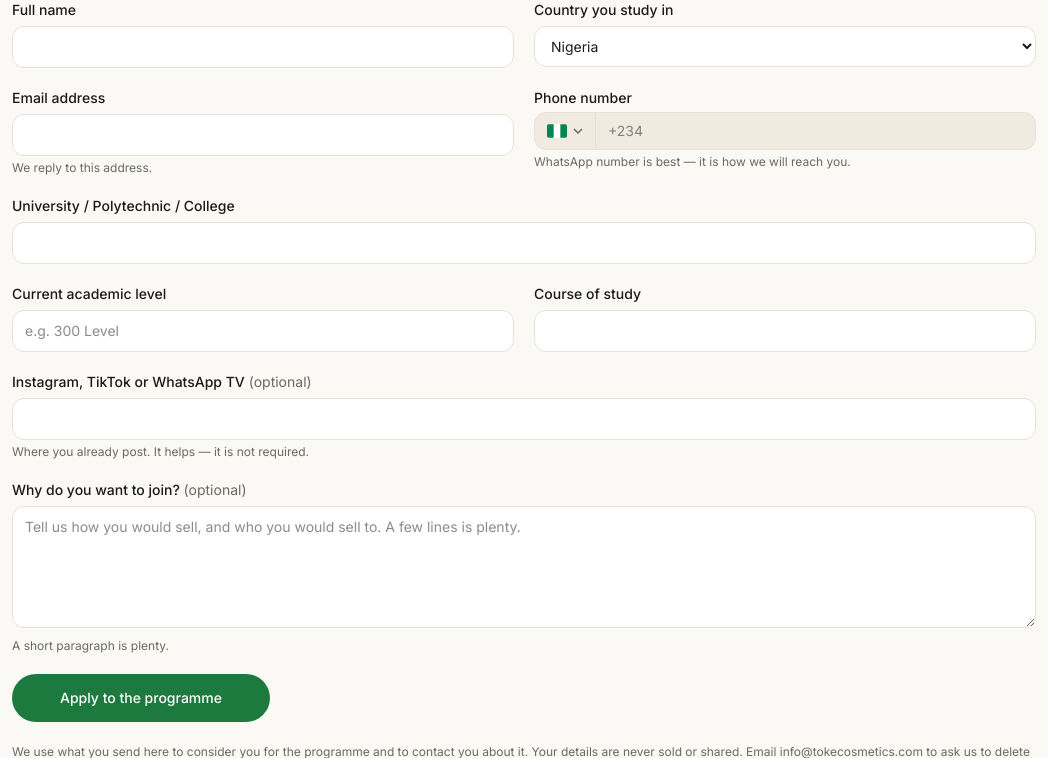
Test case: the application form › renders a 409 as the intake closing, not as a field error
Type "Chidinma Eze" into the field labelled "Full name" at (263, 47), box left=12, top=26, right=514, bottom=68
Type "chidinma@example.com" into the field labelled "Email address" at (263, 135), box left=12, top=114, right=514, bottom=156
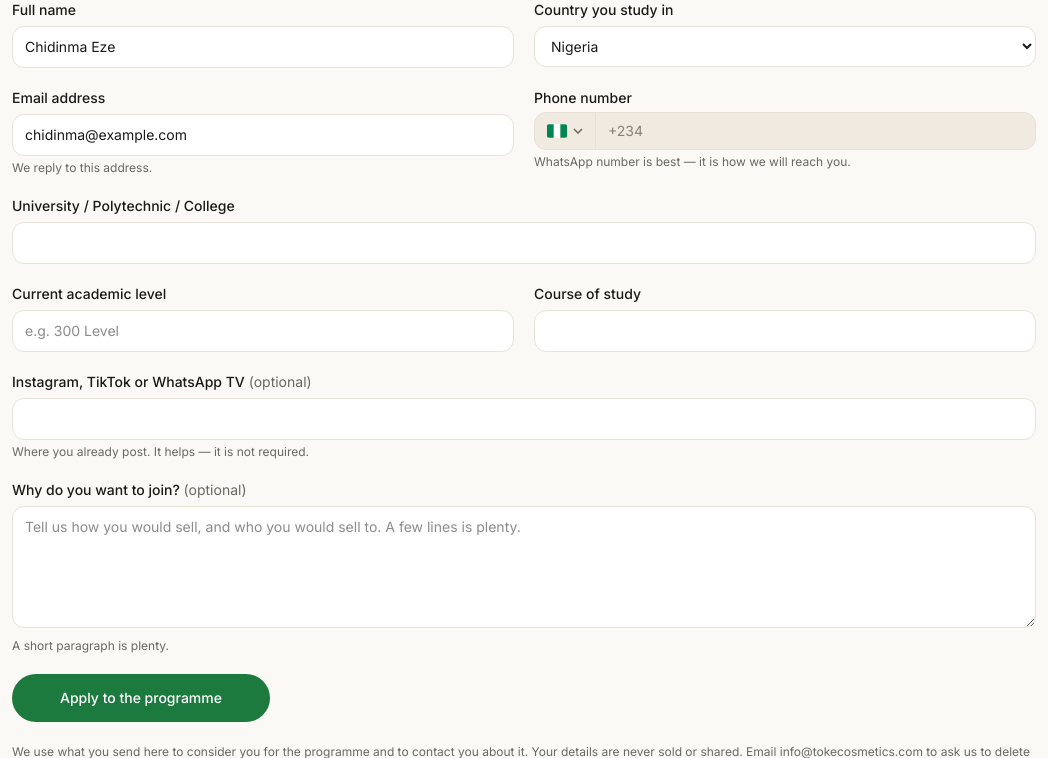
Type "University of Lagos" into the field labelled "University / Polytechnic / College" at (524, 243), box left=12, top=222, right=1036, bottom=264
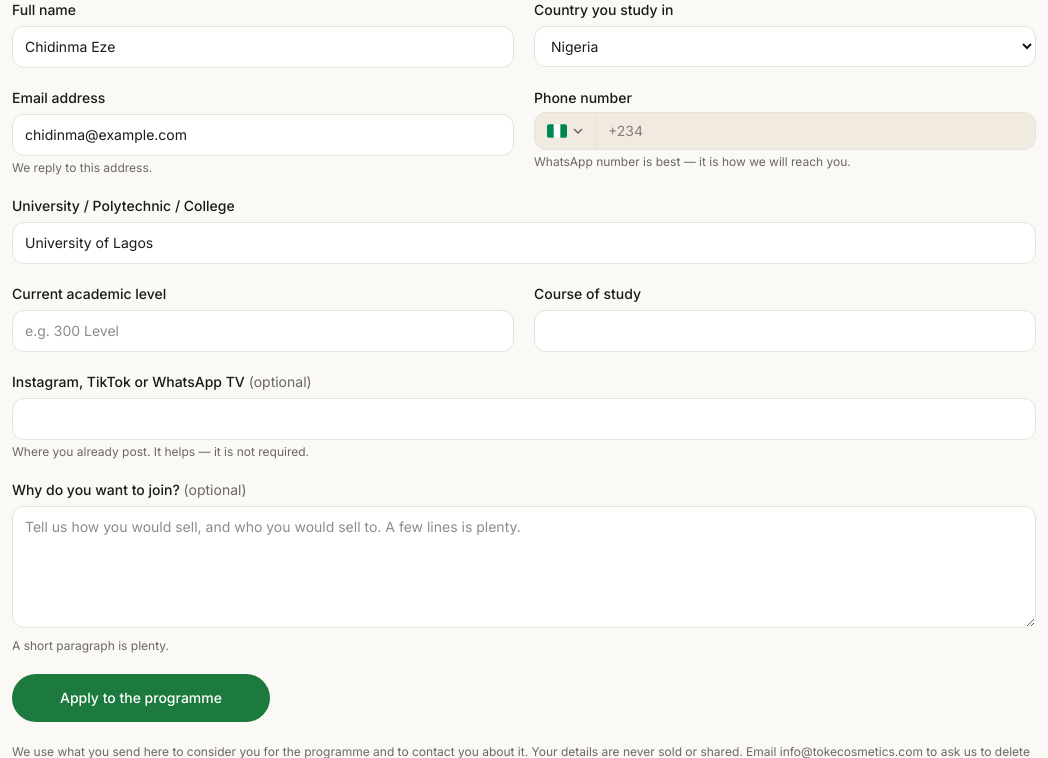
Type "300 Level" into the field labelled "Current academic level" at (263, 331), box left=12, top=310, right=514, bottom=352
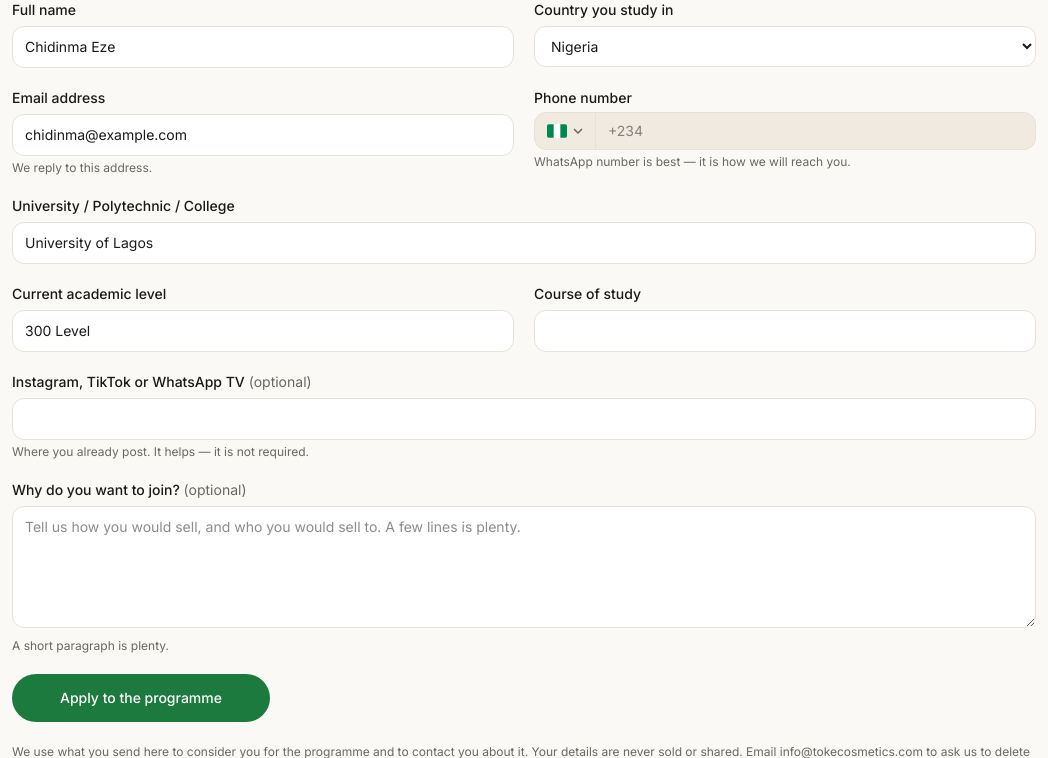
Type "Biochemistry" into the field labelled "Course of study" at (785, 331), box left=534, top=310, right=1036, bottom=352
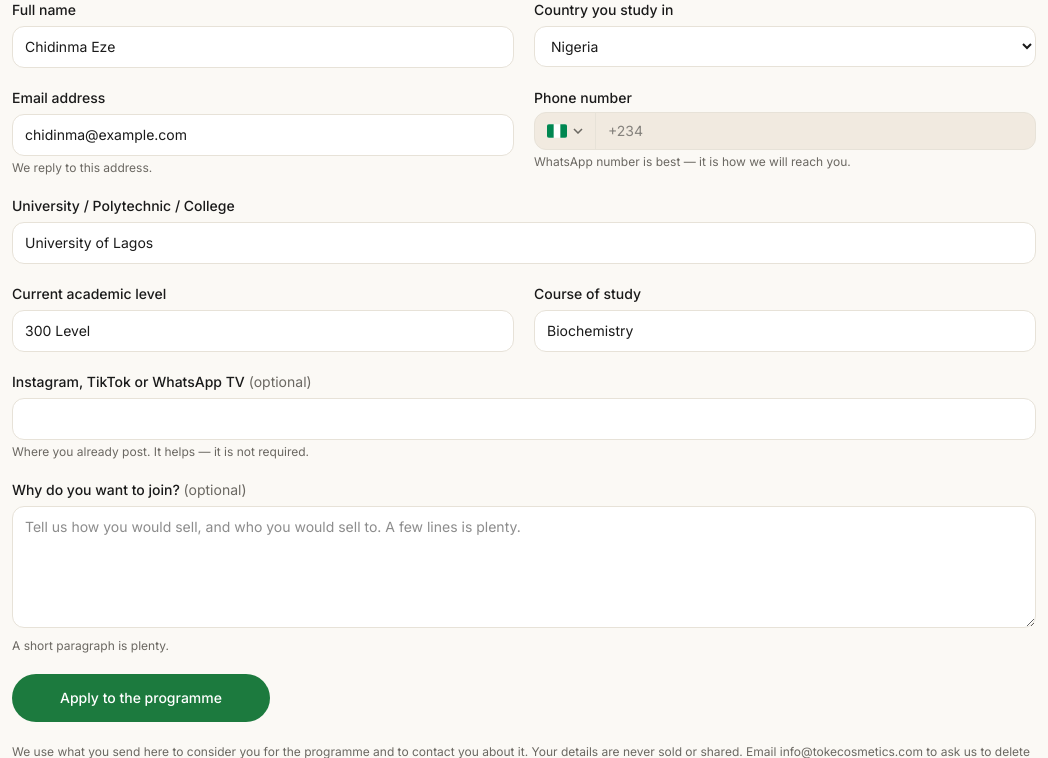
Type "8023900964" into the field labelled "Phone number" at (816, 131), box left=596, top=113, right=1035, bottom=149
(page scrolled)
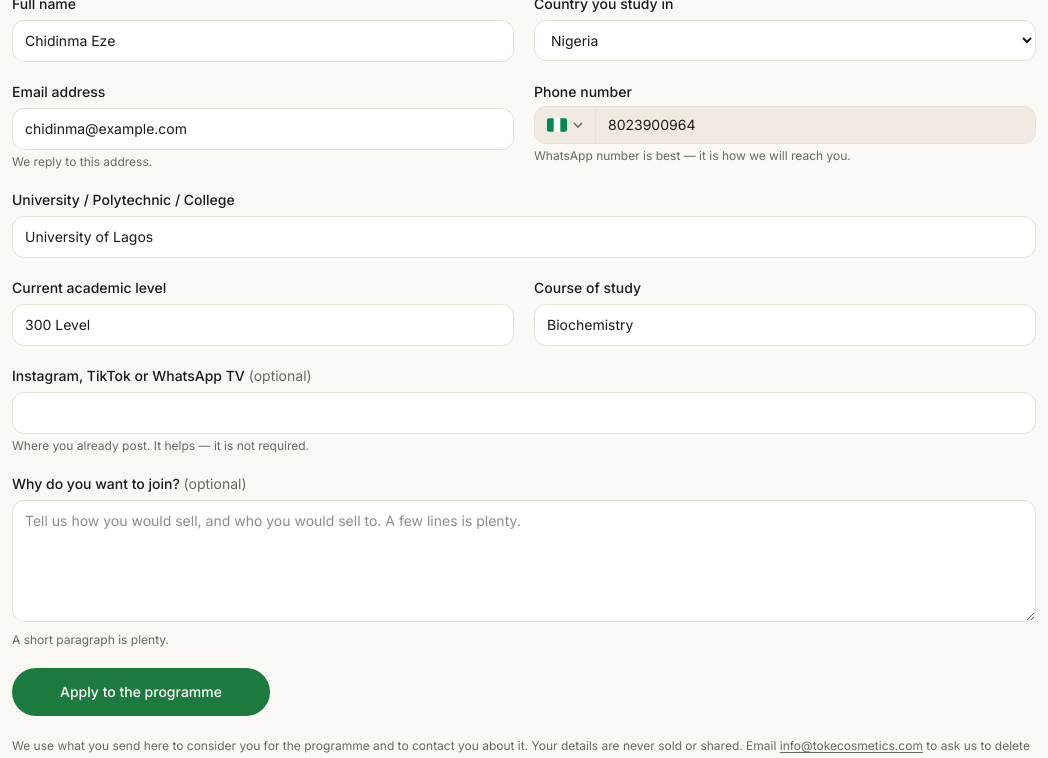
Submit the form named "apply to the programme"
(page scrolled)
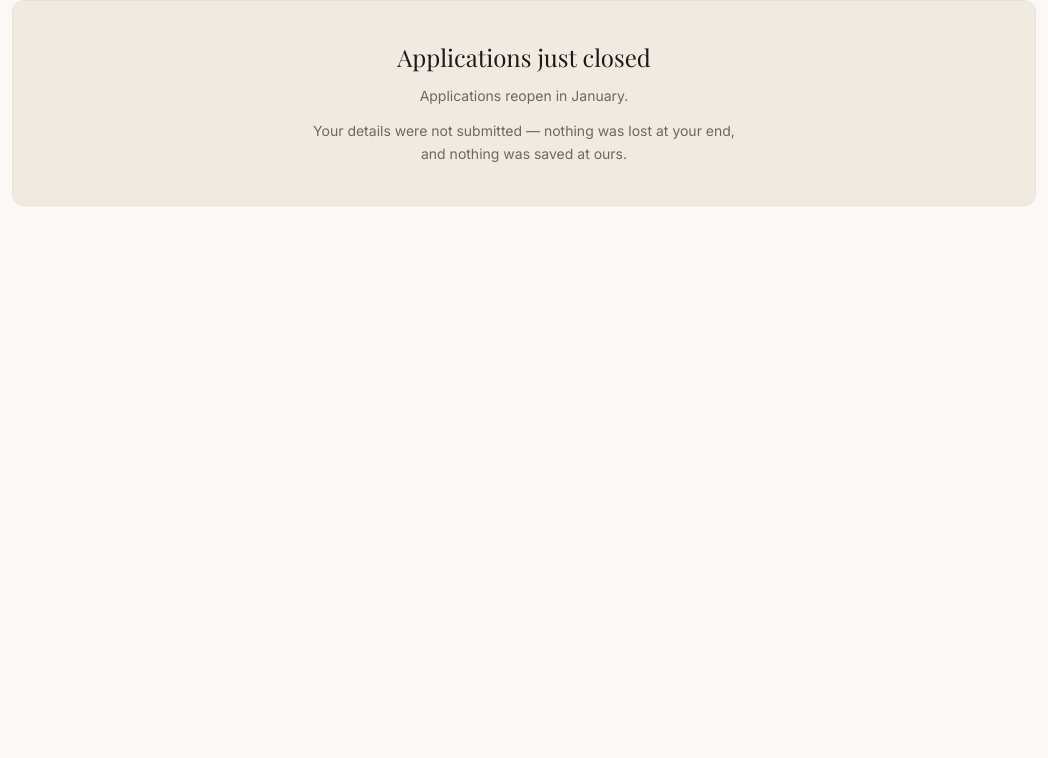
Now the heading "Applications just closed" is shown, box left=397, top=41, right=651, bottom=73
Now the text "were not submitted" is shown, box left=313, top=122, right=735, bottom=162
